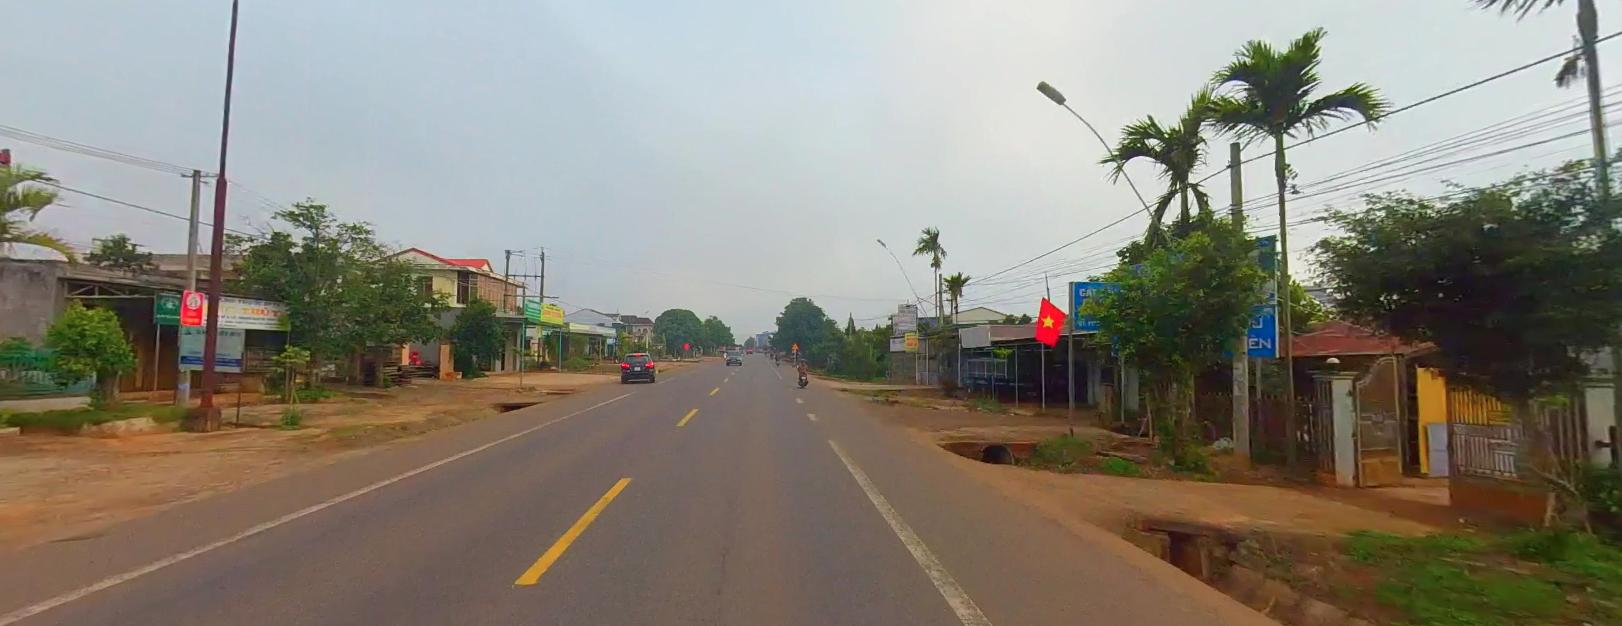Nguy hiem: (791, 341, 799, 347)
